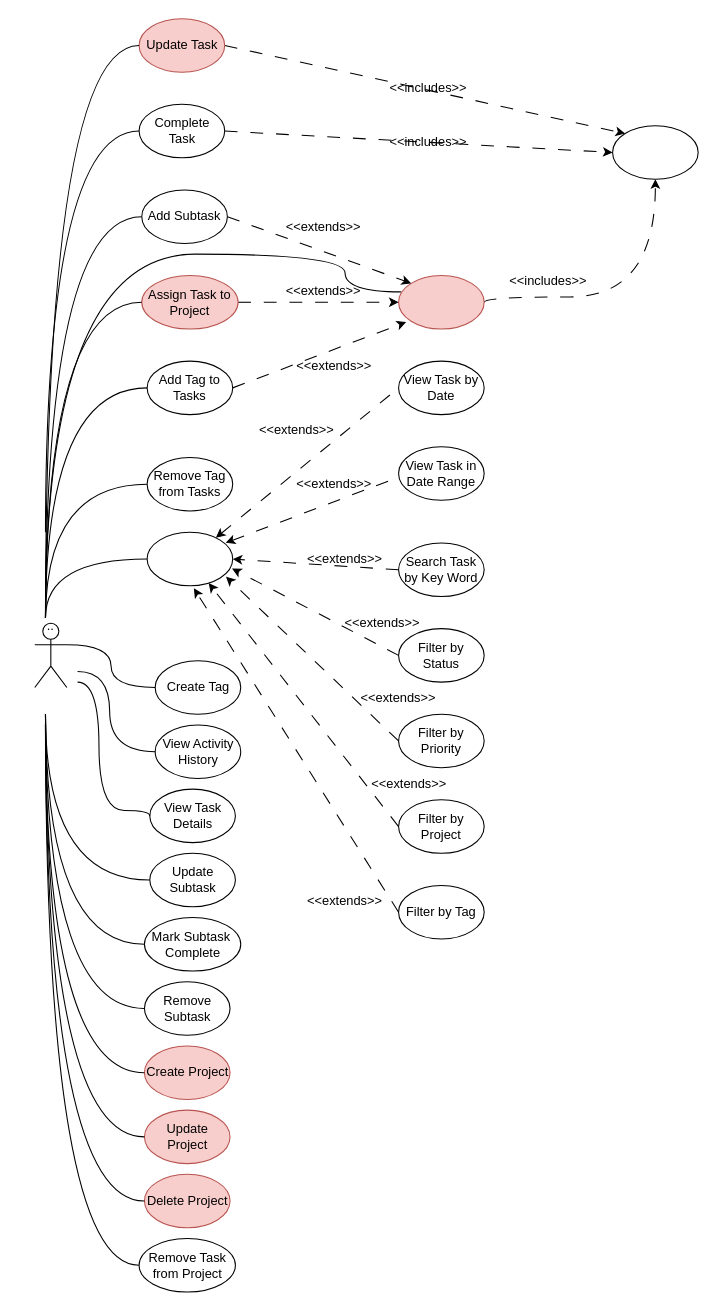
Some shapes in this 717 by 1311 pixel diagram are drawn without their labels. The box of each missing label's shape, as (x1, y1, x2, y2) in pixels:
Create Task: (398, 274, 484, 329)
Record Activity Entry: (612, 125, 698, 179)
User: (34, 622, 67, 687)
View Tasks: (146, 531, 233, 586)
